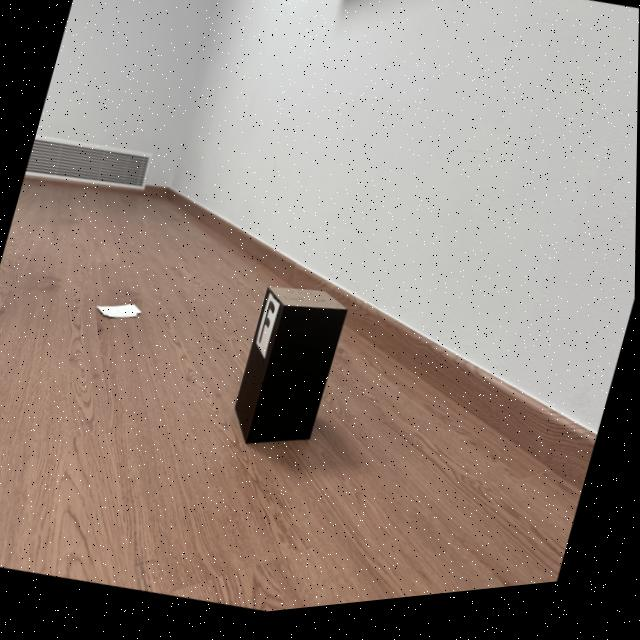F: (260, 306, 275, 349)
